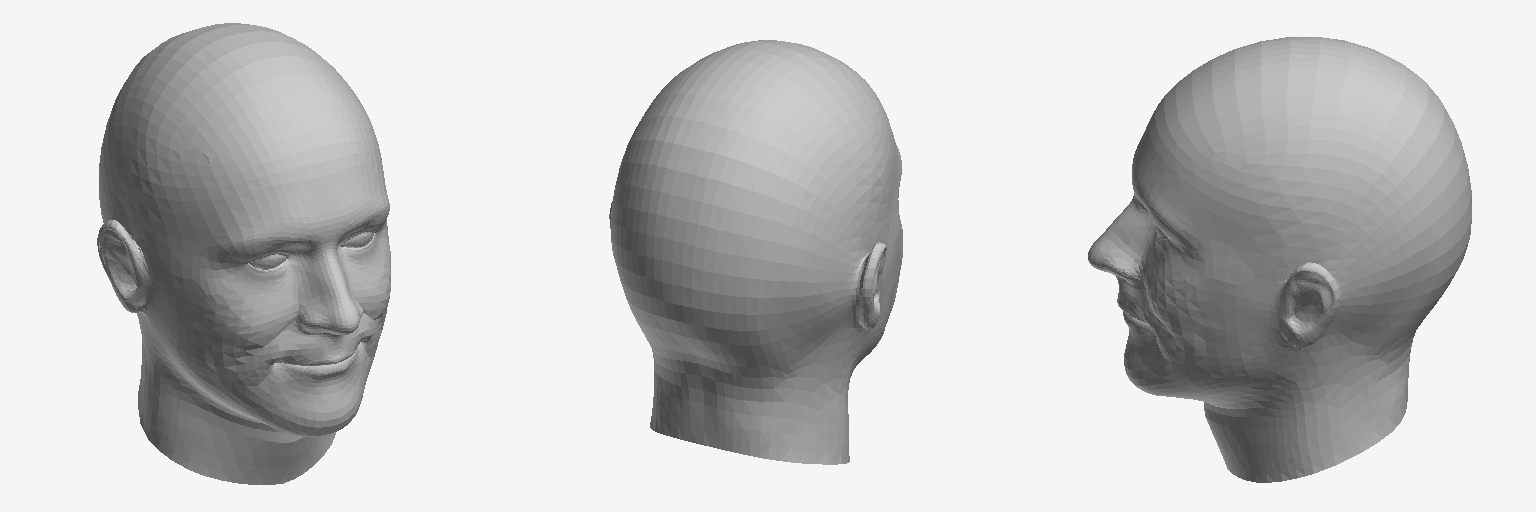
The model's file is MaleFace_ExpressionFrown.obj.
The picture shows the model from 3 angles: view 1: azimuth 30°, elevation 25°; view 2: azimuth 150°, elevation 25°; view 3: azimuth 270°, elevation 25°; orthographic projection.
Bounding box in the file's own units: 189 × 284 × 238.